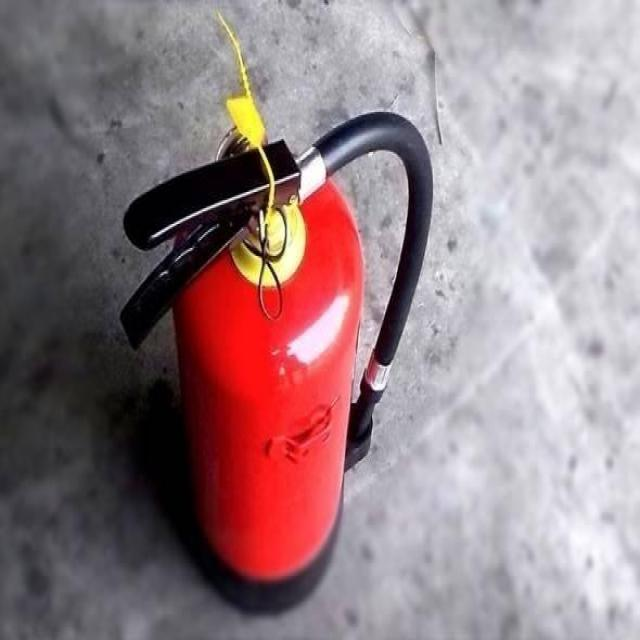fire_extinguisher: (115, 106, 437, 618)
